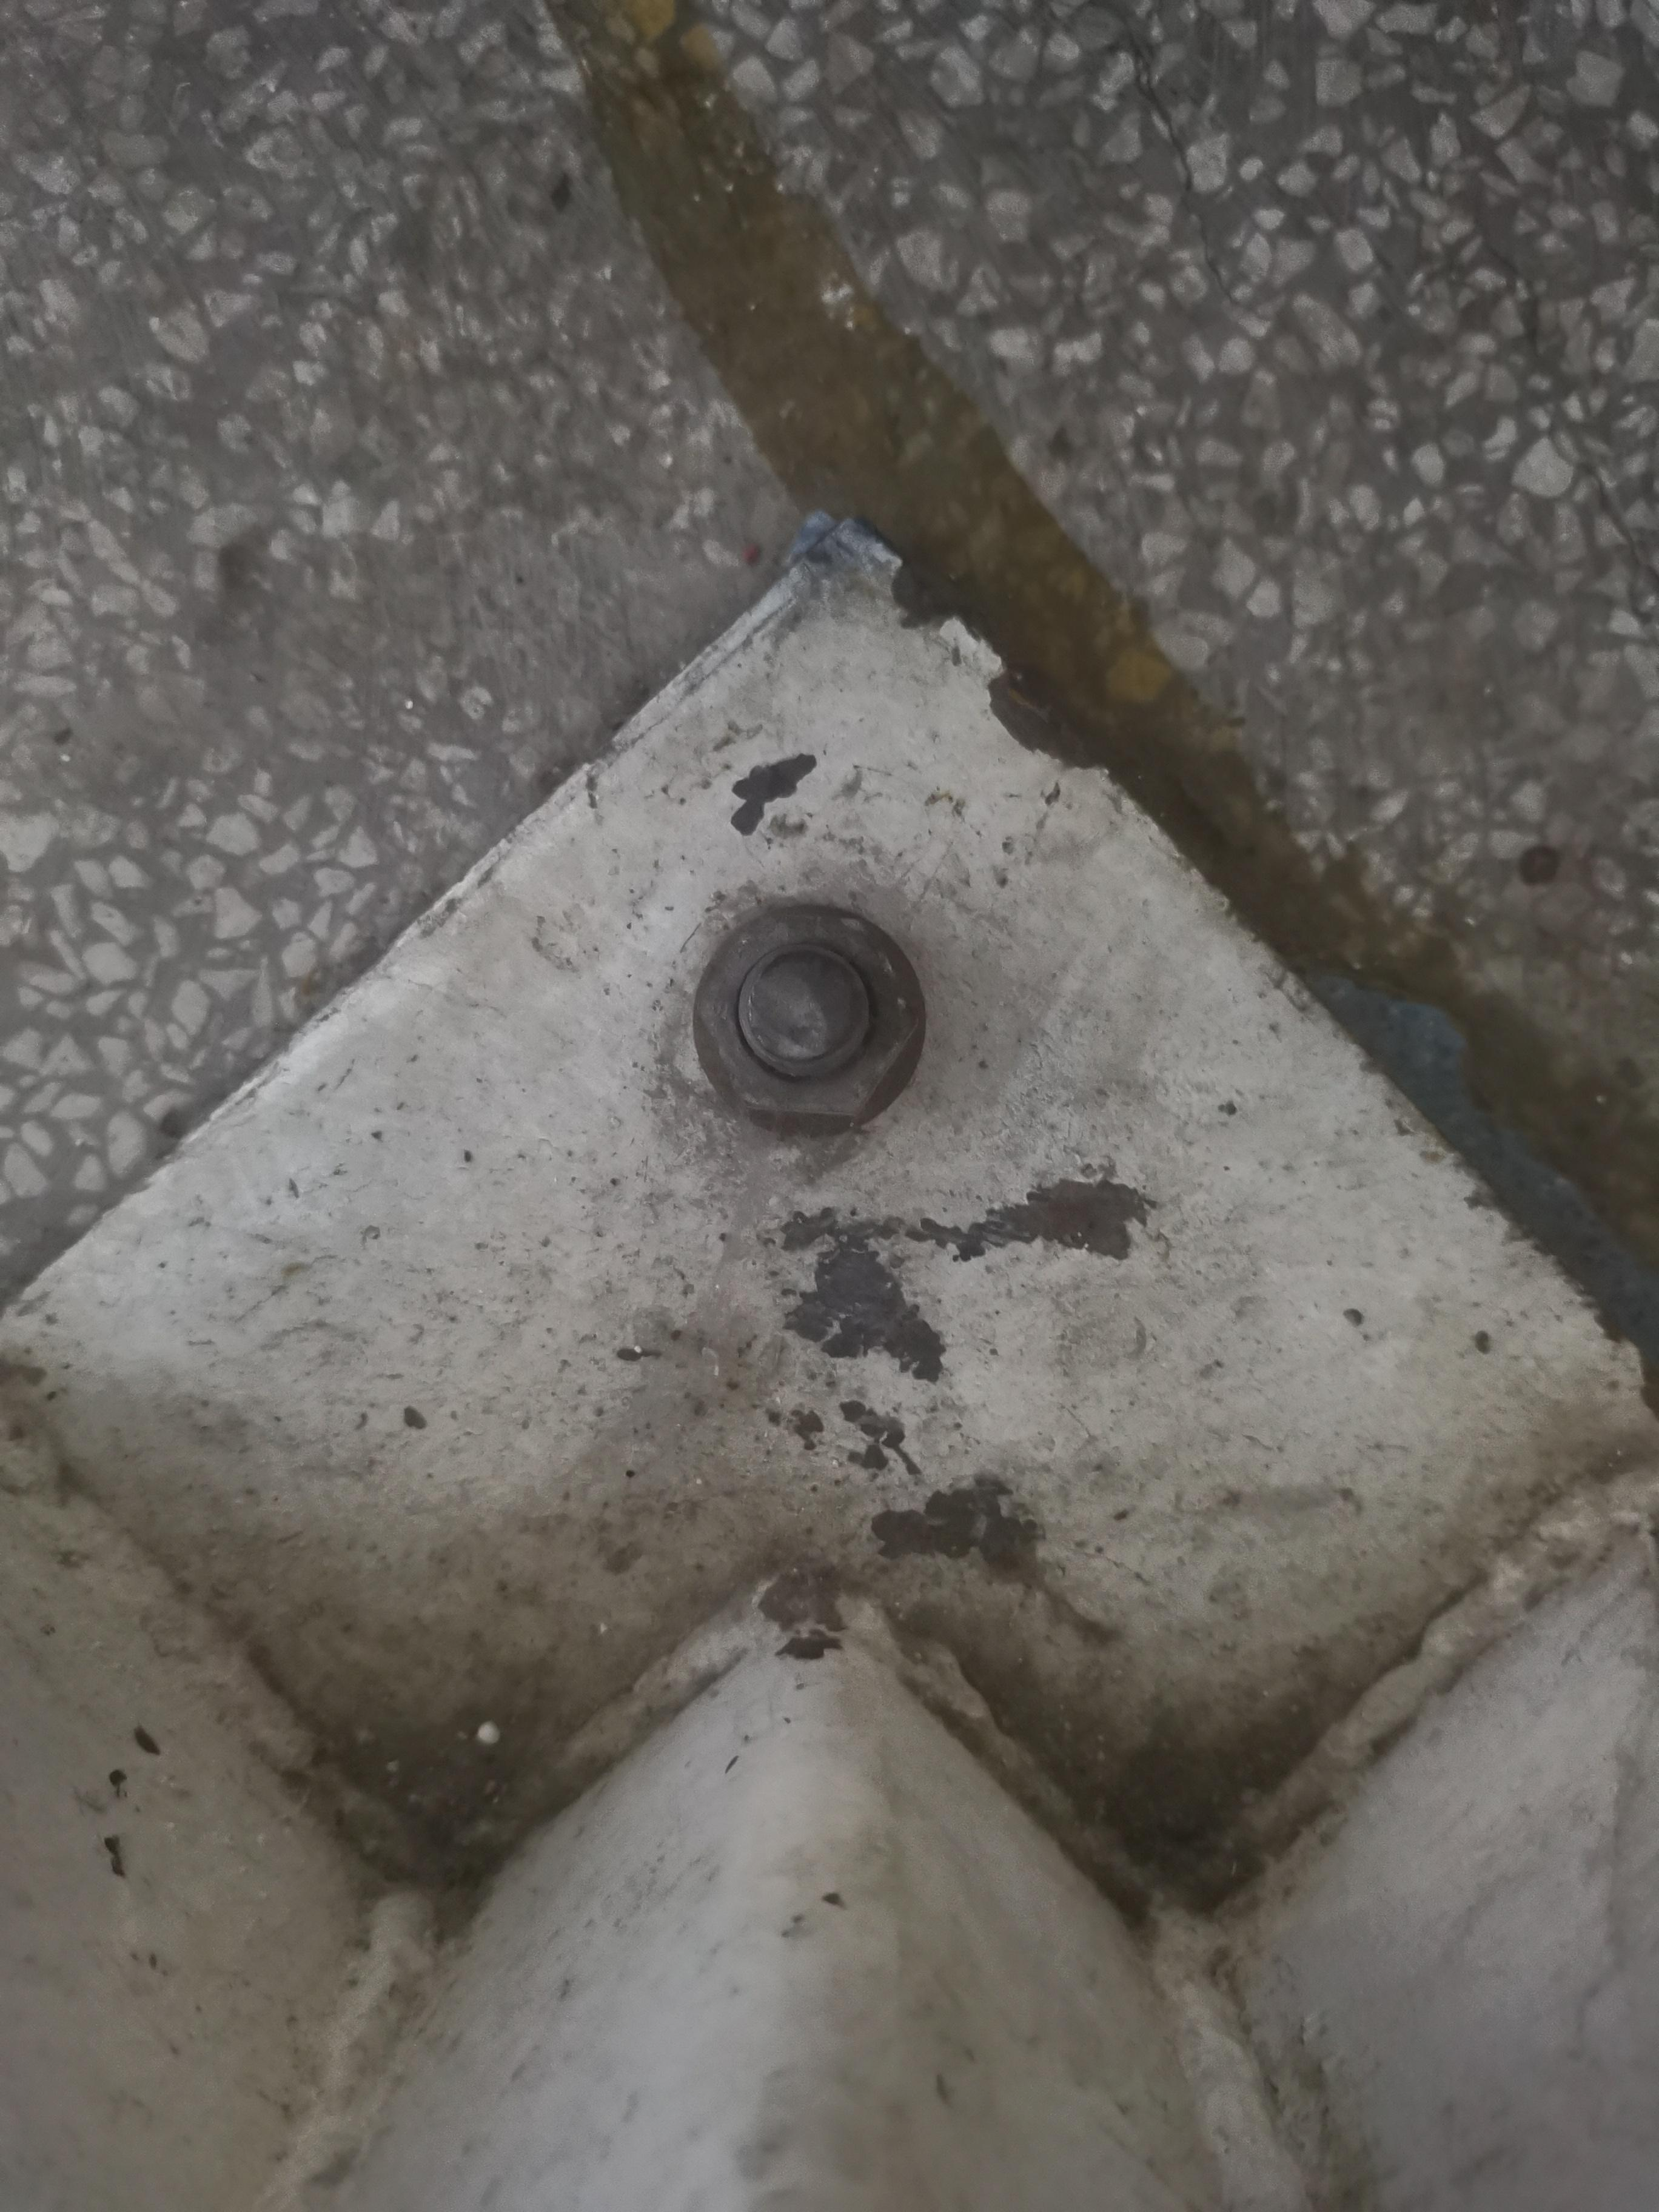bolt_b: (687, 906, 915, 1127)
